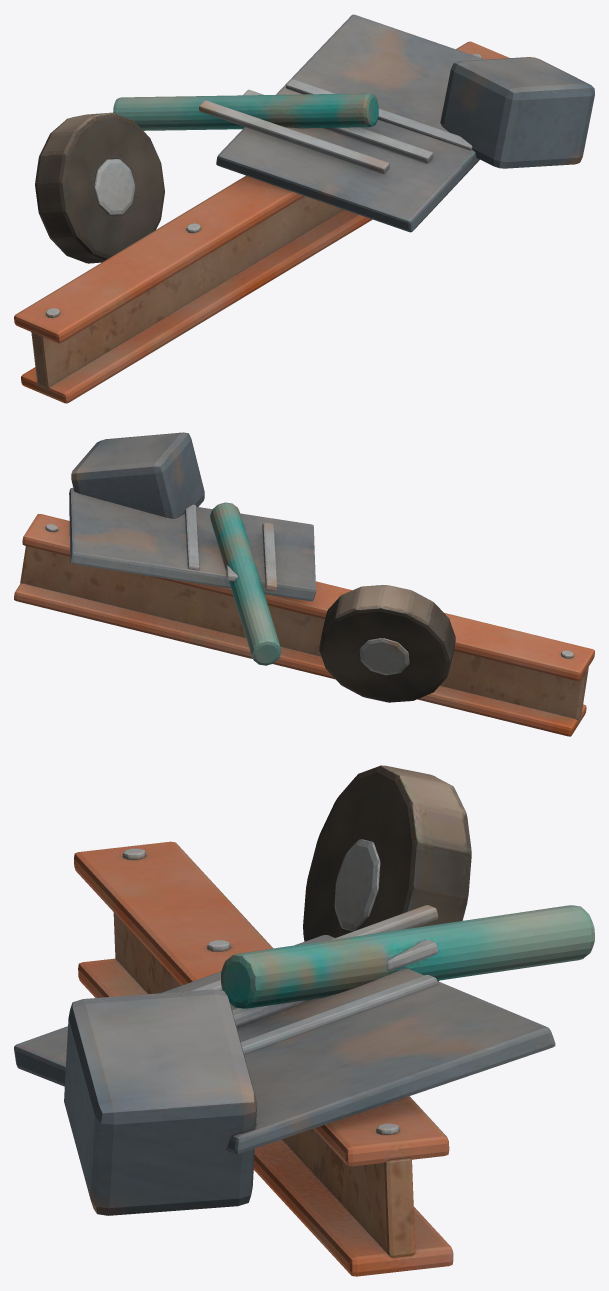
The model's file is bulk_metal_beam.glb.
The picture shows the model from 3 angles, top to bottom: view 1: azimuth 30°, elevation 25°; view 2: azimuth 150°, elevation 25°; view 3: azimuth 270°, elevation 25°; orthographic projection. The views are drawn at different scales.
Visible parts, largest first — view 1: Debris_Mesh, Beam_Mesh; view 2: Debris_Mesh, Beam_Mesh; view 3: Debris_Mesh, Beam_Mesh.
Part boxes in pixels (x1=…): Debris_Mesh: x1=35, y1=14, x2=594, y2=263; Beam_Mesh: x1=14, y1=41, x2=509, y2=403; Debris_Mesh: x1=69, y1=432, x2=455, y2=702; Beam_Mesh: x1=14, y1=514, x2=594, y2=736; Debris_Mesh: x1=14, y1=765, x2=594, y2=1215; Beam_Mesh: x1=74, y1=841, x2=453, y2=1276.
Bounding box in the file's own units: 2.59 × 0.9031 × 1.41.
2 materials, 2 textured.
